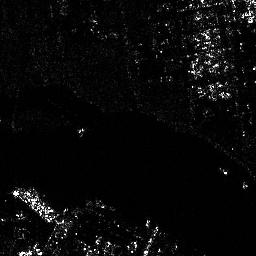ship: (15, 188, 54, 219)
